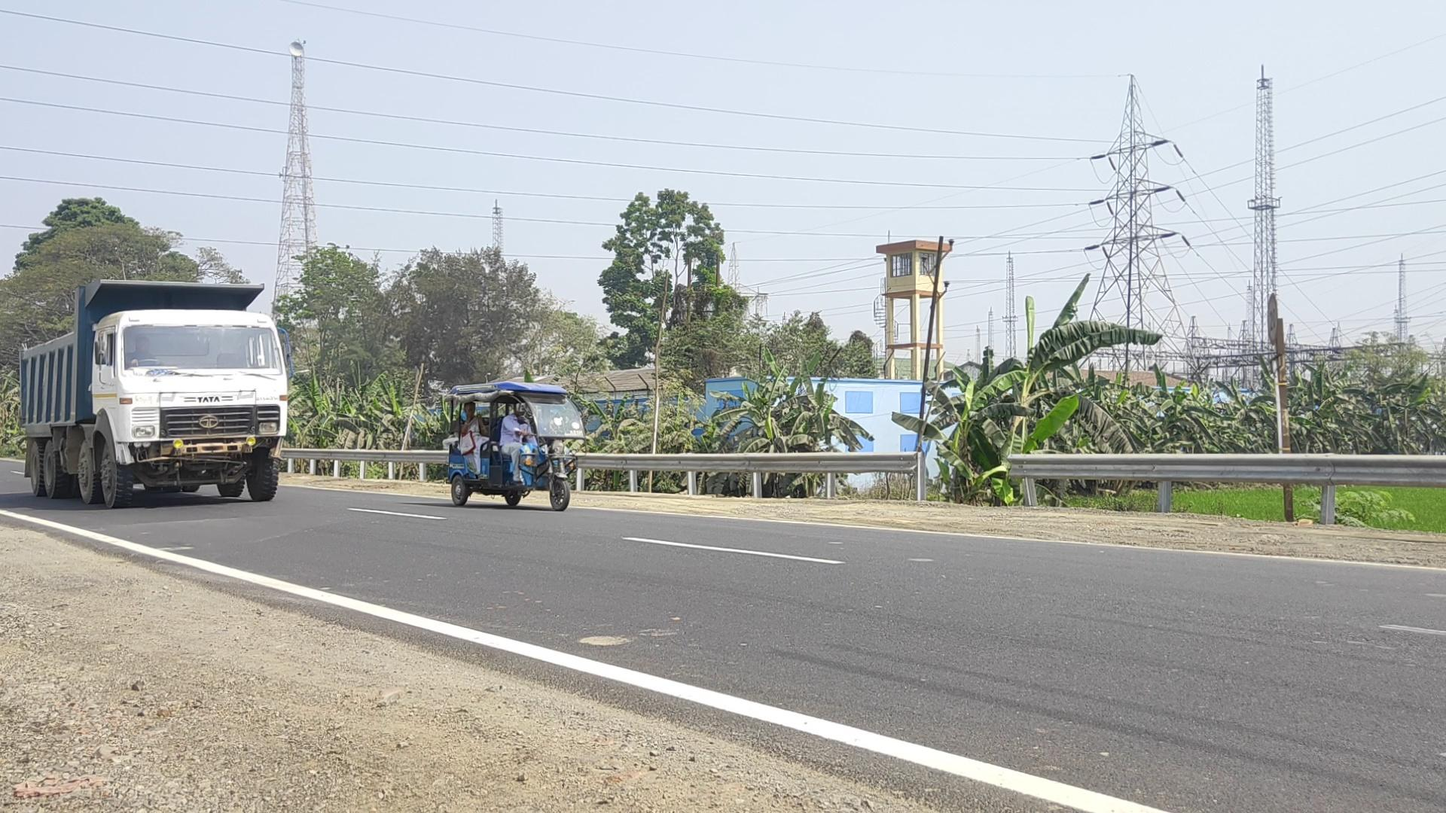Auto: (447, 381, 588, 511)
truck: (19, 279, 293, 510)
